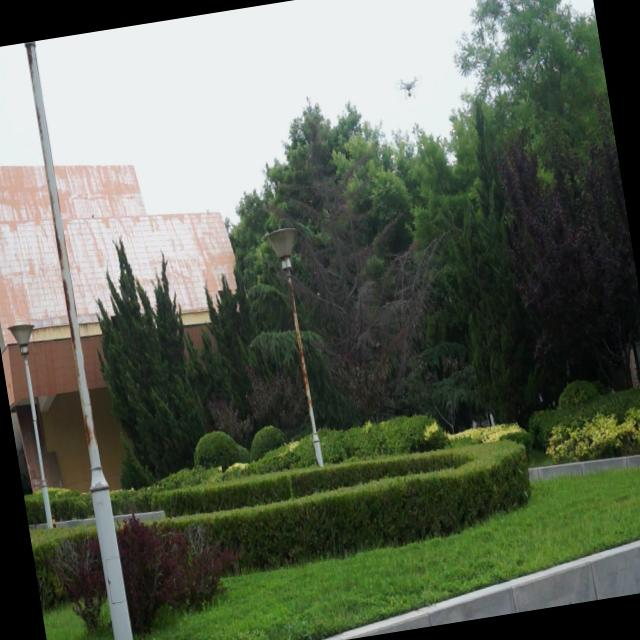drone: (396, 75, 422, 101)
